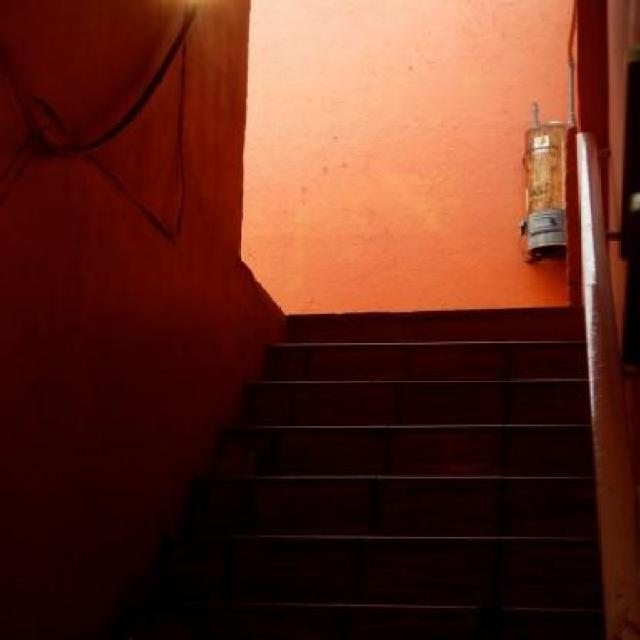stair: (104, 307, 607, 640)
